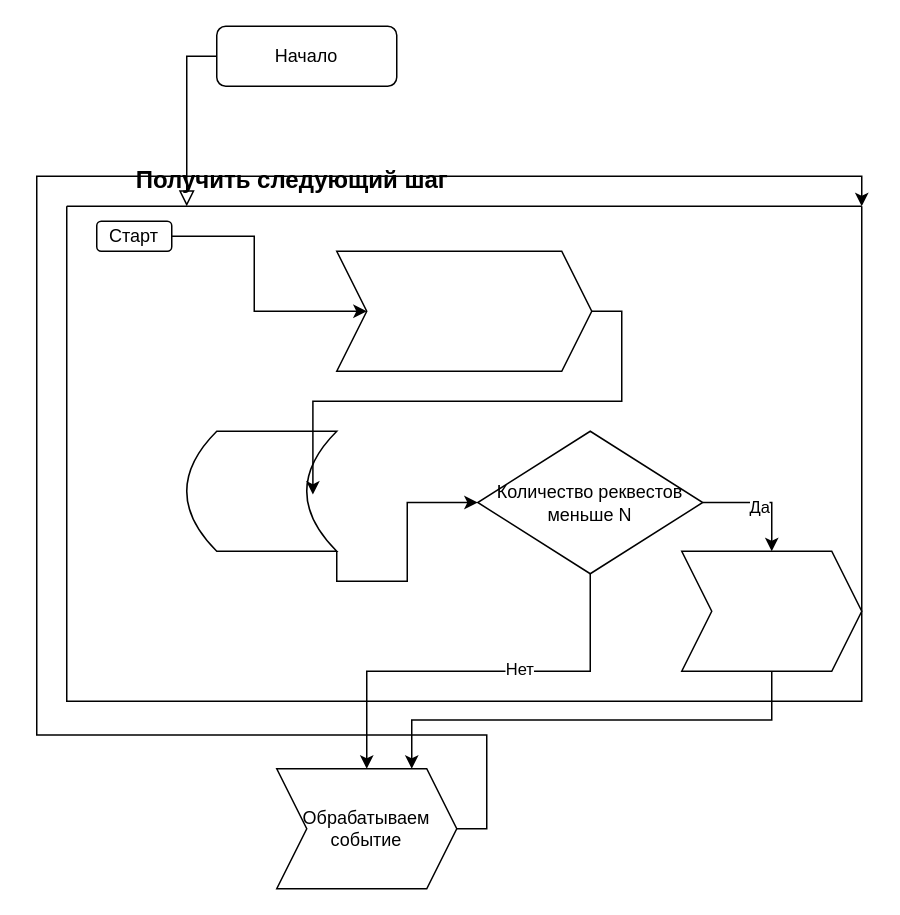
This 900x915 diagram has some shape labels left out. Each missing label, with the centre of its shape:
Получить ближайшее событие: (x=463, y=310)
Создаем следующие отправления: (x=771, y=610)
